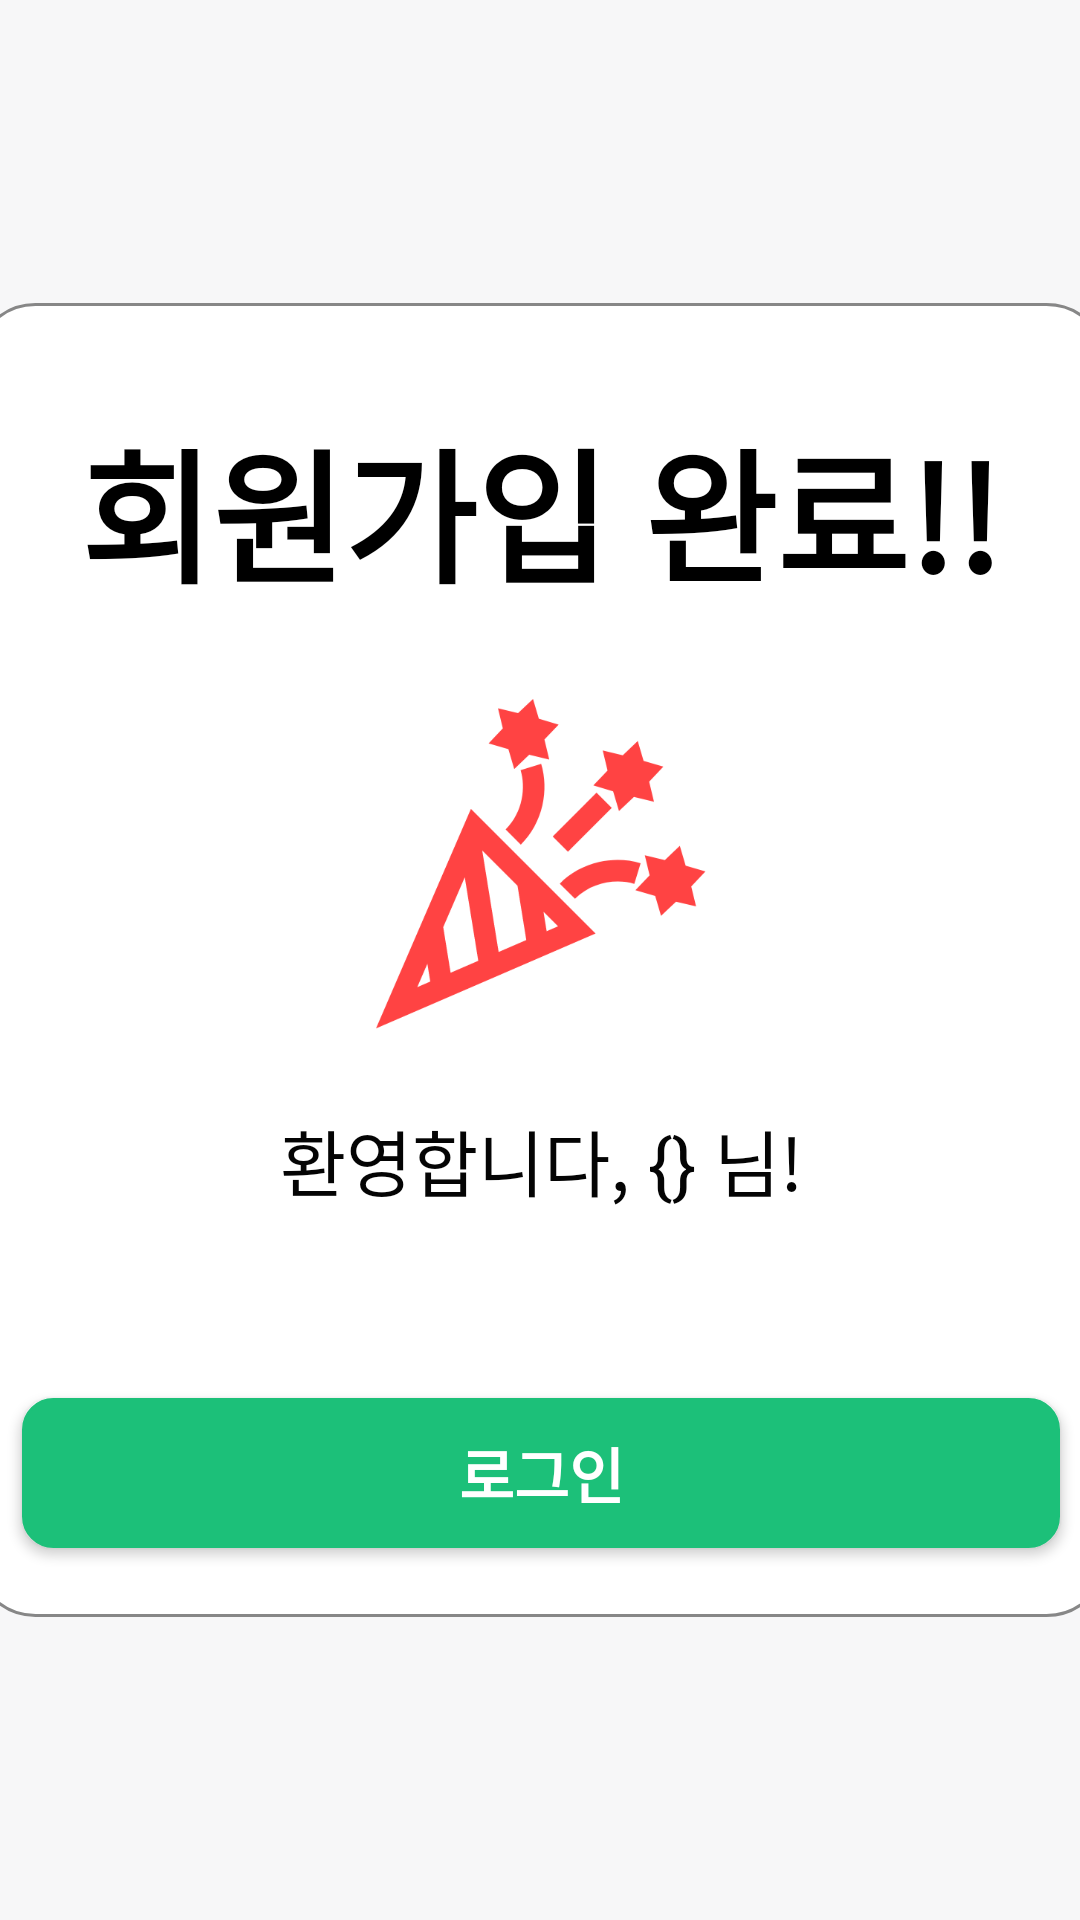

Icons on this 1080px×1920px Android screen, each with the point to tap as point (x, y):
firecracker: point (540, 864)
